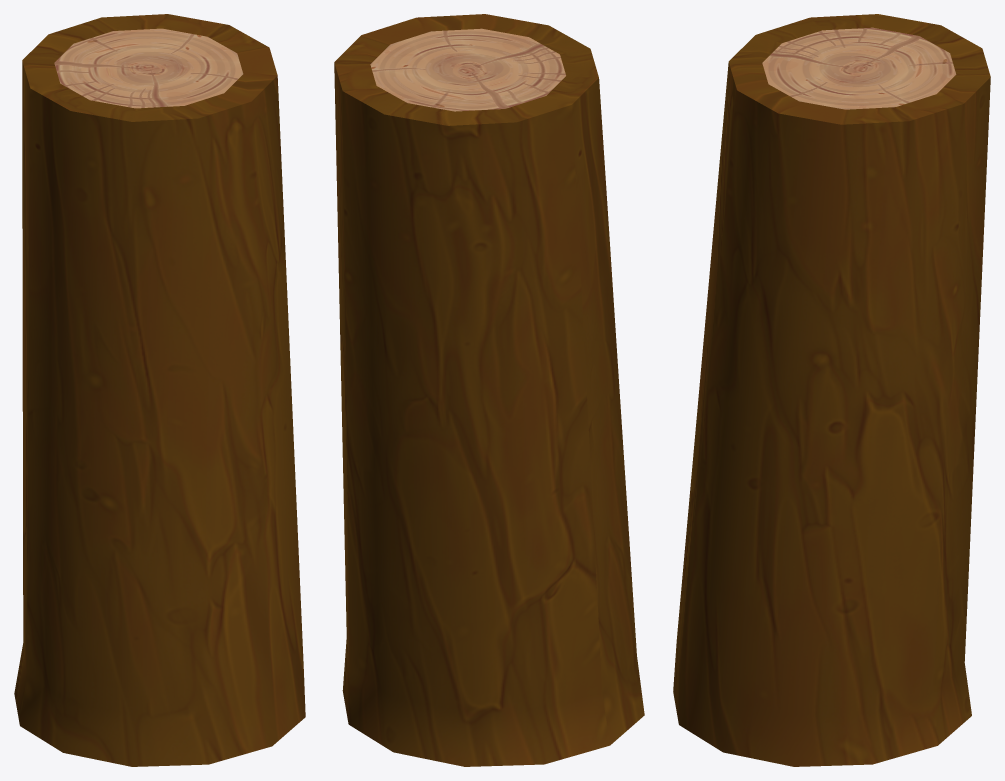
The model's file is obj_harvests_trees_leafy03_p01.fbx.
3 renders of one model, left to right at view 1: azimuth 30°, elevation 25°; view 2: azimuth 150°, elevation 25°; view 3: azimuth 270°, elevation 25°, orthographic. The views are drawn at different scales.
Visible parts, largest first — view 1: chunk01; view 2: chunk01; view 3: chunk01.
Part boxes in pixels (bbox=[...]): chunk01: bbox=[14, 14, 305, 766]; chunk01: bbox=[334, 14, 644, 766]; chunk01: bbox=[673, 14, 990, 766].
Bounding box in the file's own units: 3.4 × 8 × 3.61.
